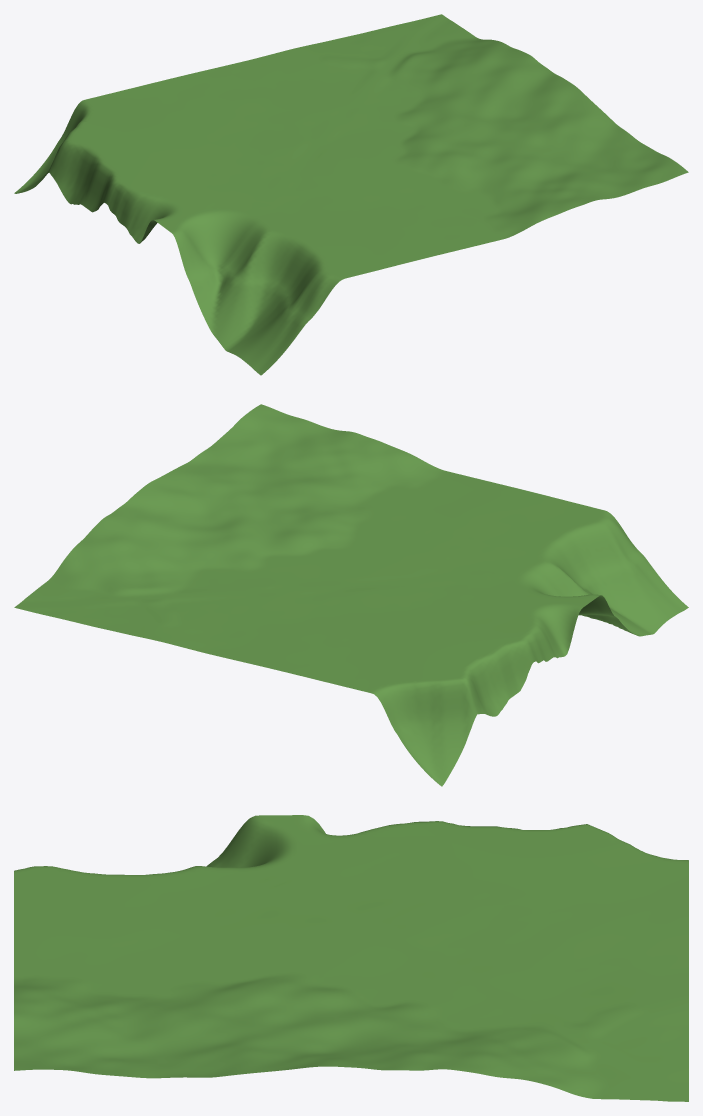
The model's file is SM_Terrain_01_03.fbx.
3 views of the same model, one above another, from view 1: azimuth 30°, elevation 25°; view 2: azimuth 150°, elevation 25°; view 3: azimuth 270°, elevation 25° (orthographic). The views are drawn at different scales.
Parts seen in each view (by area): view 1: SM_Terrain_01_03; view 2: SM_Terrain_01_03; view 3: SM_Terrain_01_03.
Part boxes in pixels (x1,y1,x2,y2): SM_Terrain_01_03: (14, 14, 688, 375); SM_Terrain_01_03: (14, 404, 688, 786); SM_Terrain_01_03: (14, 815, 688, 1101).
Size of the model in its own units: 384 by 88.35 by 384.
